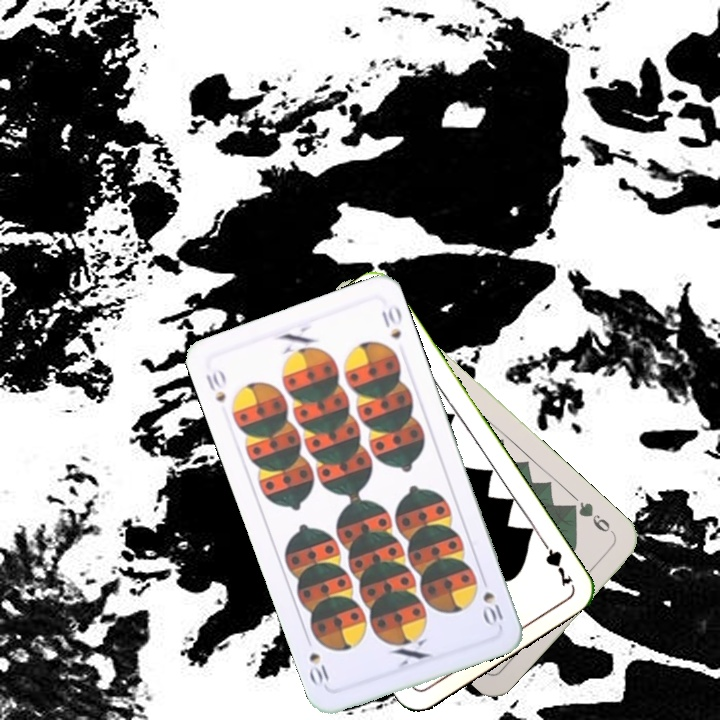G7: (536, 534, 576, 589)
G9: (564, 498, 618, 538)
S10: (478, 587, 506, 629), (201, 364, 229, 406)
